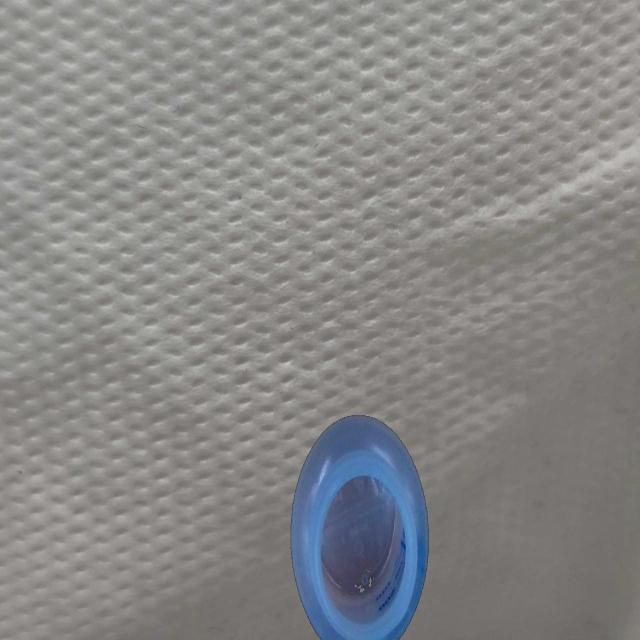bottle: (290, 410, 434, 640)
